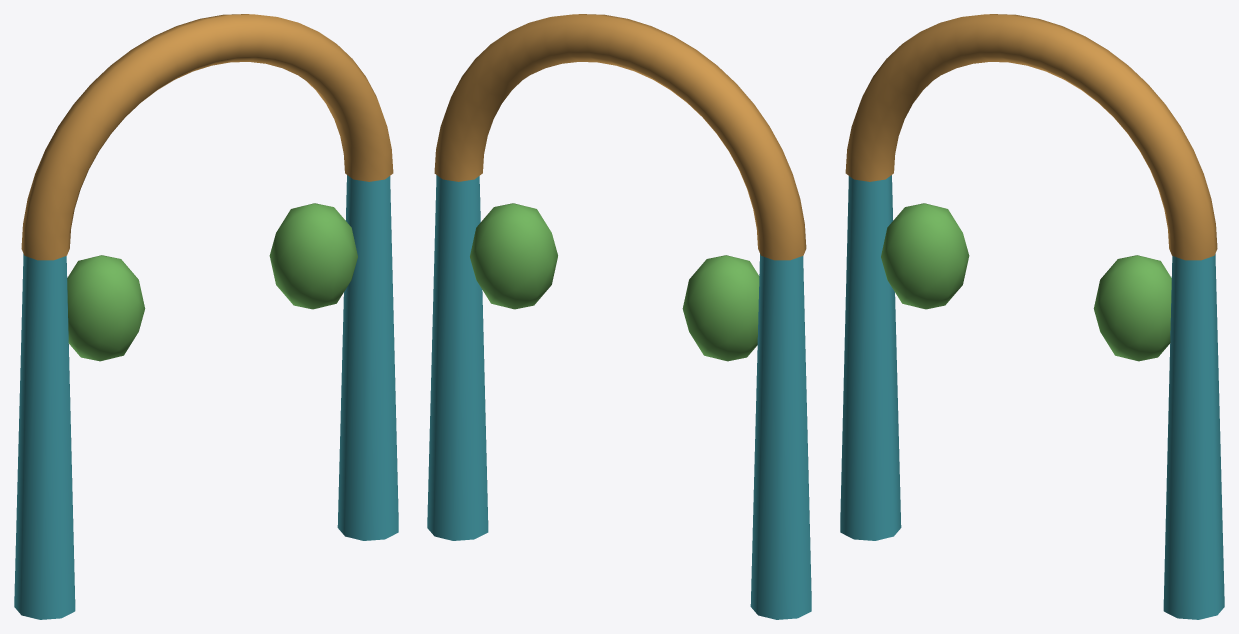
Rendered from lantern_gate.glb.
The picture shows the model from 3 angles, left to right: view 1: azimuth 30°, elevation 25°; view 2: azimuth 150°, elevation 25°; view 3: azimuth 330°, elevation 25°; orthographic projection.
Visible parts, largest first — view 1: gate_arch, gate_post_-1, gate_post_1, gate_lantern_1, gate_lantern_-1; view 2: gate_arch, gate_post_-1, gate_post_1, gate_lantern_1, gate_lantern_-1; view 3: gate_arch, gate_post_1, gate_post_-1, gate_lantern_-1, gate_lantern_1.
Part boxes in pixels (x1,y1,x2,y2): gate_arch: (21, 14, 393, 260); gate_post_-1: (14, 254, 75, 619); gate_post_1: (337, 175, 398, 540); gate_lantern_1: (269, 203, 357, 309); gate_lantern_-1: (67, 255, 145, 361); gate_arch: (434, 14, 806, 260); gate_post_-1: (750, 254, 811, 619); gate_post_1: (427, 175, 488, 540); gate_lantern_1: (470, 203, 557, 309); gate_lantern_-1: (682, 255, 759, 361); gate_arch: (845, 14, 1217, 260); gate_post_1: (1163, 254, 1224, 619); gate_post_-1: (840, 175, 901, 540); gate_lantern_-1: (881, 203, 969, 309); gate_lantern_1: (1093, 255, 1171, 361).
Size of what is drawn, in the model's own units: 4.43 by 6.15 by 0.9.
